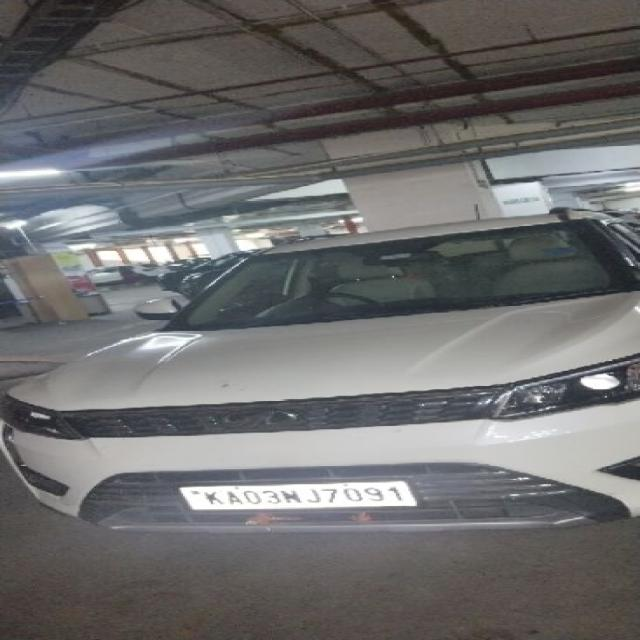license_plate: (174, 479, 420, 512)
